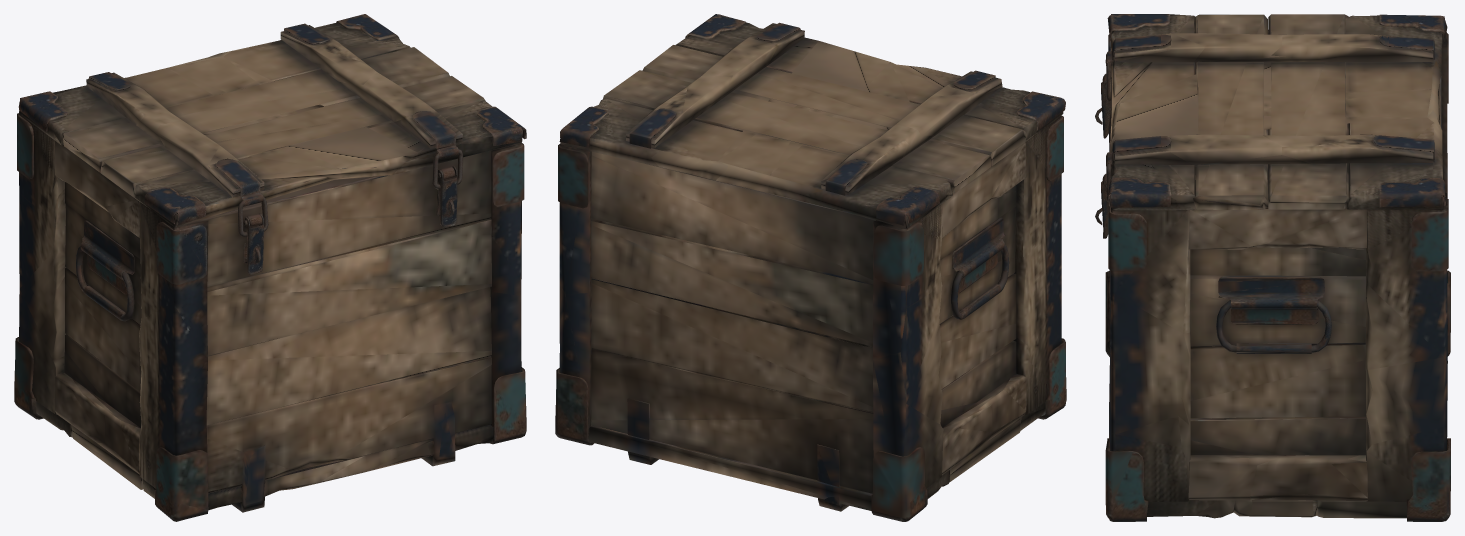
Rendered from silo81_crate.glb.
3 views of the same model, side by side, from view 1: azimuth 30°, elevation 25°; view 2: azimuth 150°, elevation 25°; view 3: azimuth 270°, elevation 25° (orthographic). The views are drawn at different scales.
Size of the model in its own units: 0.9497 by 0.8486 by 0.7778.
Materials: 1 (1 with a texture image).
